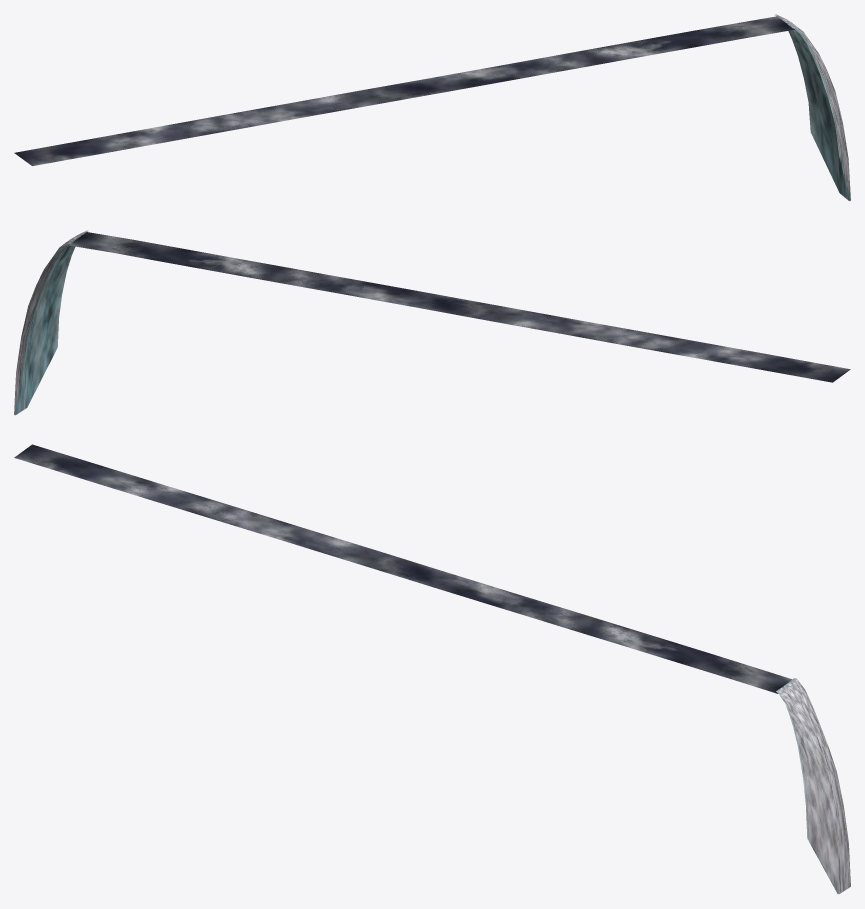
File: LONE_MOUNTAIN_WATERFALLS_FORGE_WATERFALL_BILLOWS.fbx
3 views of the same model, one above another, from view 1: azimuth 30°, elevation 25°; view 2: azimuth 150°, elevation 25°; view 3: azimuth 330°, elevation 25° (orthographic).
Parts seen in each view (by area): view 1: LONE_MOUNTAIN_WATERFALLS_FORGE_WATERFALL_BILLOWS; view 2: LONE_MOUNTAIN_WATERFALLS_FORGE_WATERFALL_BILLOWS; view 3: LONE_MOUNTAIN_WATERFALLS_FORGE_WATERFALL_BILLOWS.
Boxes of the visible parts, <box> form: LONE_MOUNTAIN_WATERFALLS_FORGE_WATERFALL_BILLOWS: <box>14,14,850,200</box>; LONE_MOUNTAIN_WATERFALLS_FORGE_WATERFALL_BILLOWS: <box>14,230,850,415</box>; LONE_MOUNTAIN_WATERFALLS_FORGE_WATERFALL_BILLOWS: <box>14,444,850,894</box>.
Bounding box in the file's own units: 255609 × 70398 × 16807.
4 materials, 4 textured.
